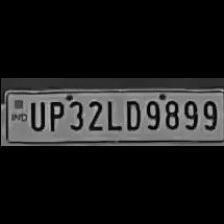2: (84, 97, 104, 132)
3: (64, 97, 82, 131)
8: (162, 96, 180, 132)
9: (142, 96, 160, 132), (180, 96, 198, 130), (200, 96, 218, 130)
D: (121, 96, 141, 132)
L: (103, 96, 120, 132)
P: (44, 97, 64, 132)
U: (26, 98, 44, 132)
